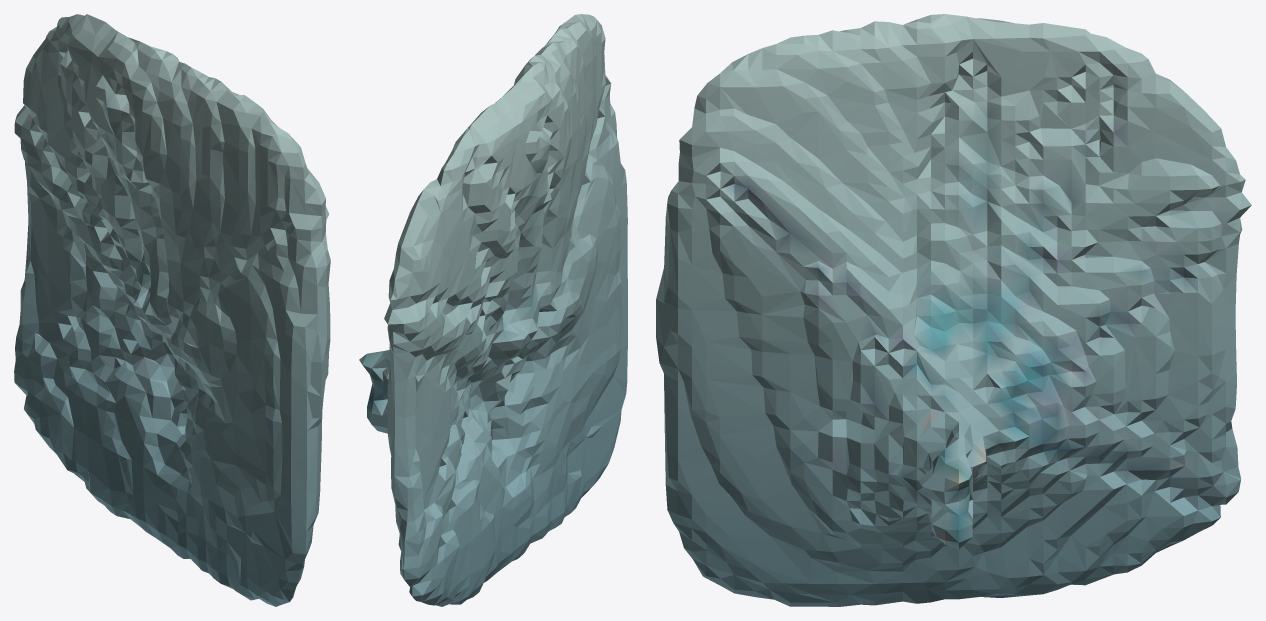
Rendered from dragonfly.glb.
3 views of the same model, side by side, from view 1: azimuth 30°, elevation 25°; view 2: azimuth 150°, elevation 25°; view 3: azimuth 270°, elevation 25° (orthographic). The views are drawn at different scales.
Visible parts, largest first — view 1: world; view 2: world; view 3: world.
Boxes of the visible parts, left/top/right/bottom form: world: left=14, top=14, right=330, bottom=606; world: left=359, top=14, right=627, bottom=606; world: left=656, top=14, right=1251, bottom=606.
Size of the model in its own units: 0.205 by 0.5 by 0.4695.
